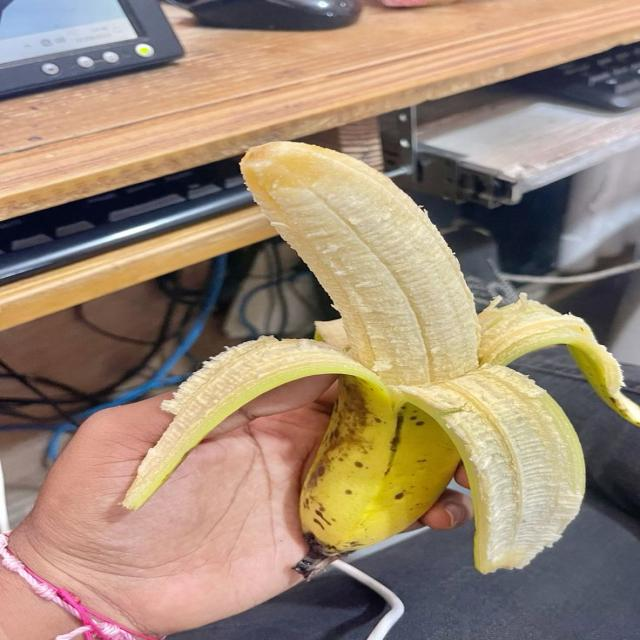banana: (124, 143, 639, 575)
